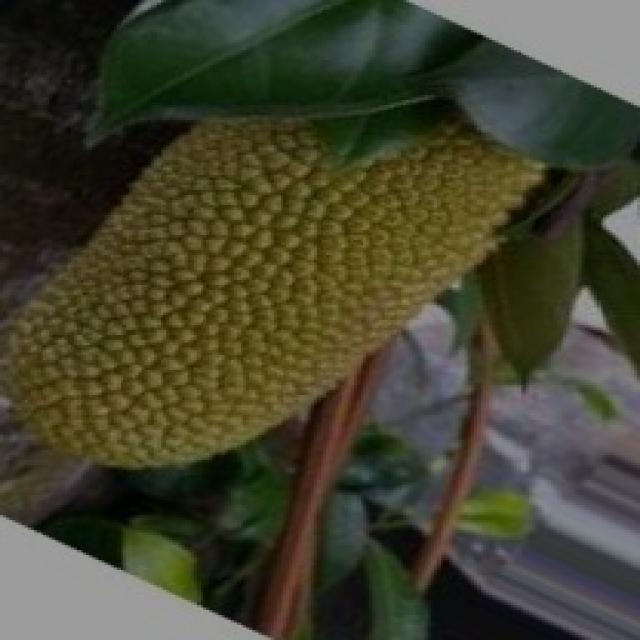Fruit: (3, 85, 422, 510)
